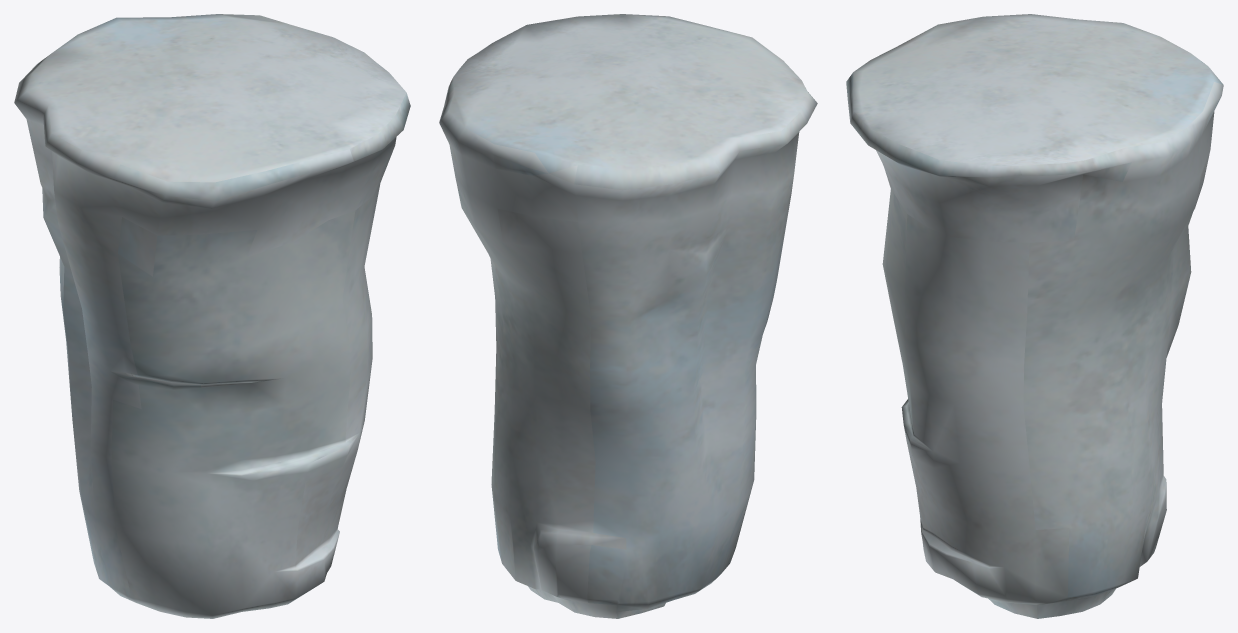
The model's file is P_RockDesert_CliffC01.obj.
3 views of the same model, side by side, from view 1: azimuth 30°, elevation 25°; view 2: azimuth 150°, elevation 25°; view 3: azimuth 270°, elevation 25° (orthographic). The views are drawn at different scales.
Size of the model in its own units: 34.61 by 52.34 by 35.66.
